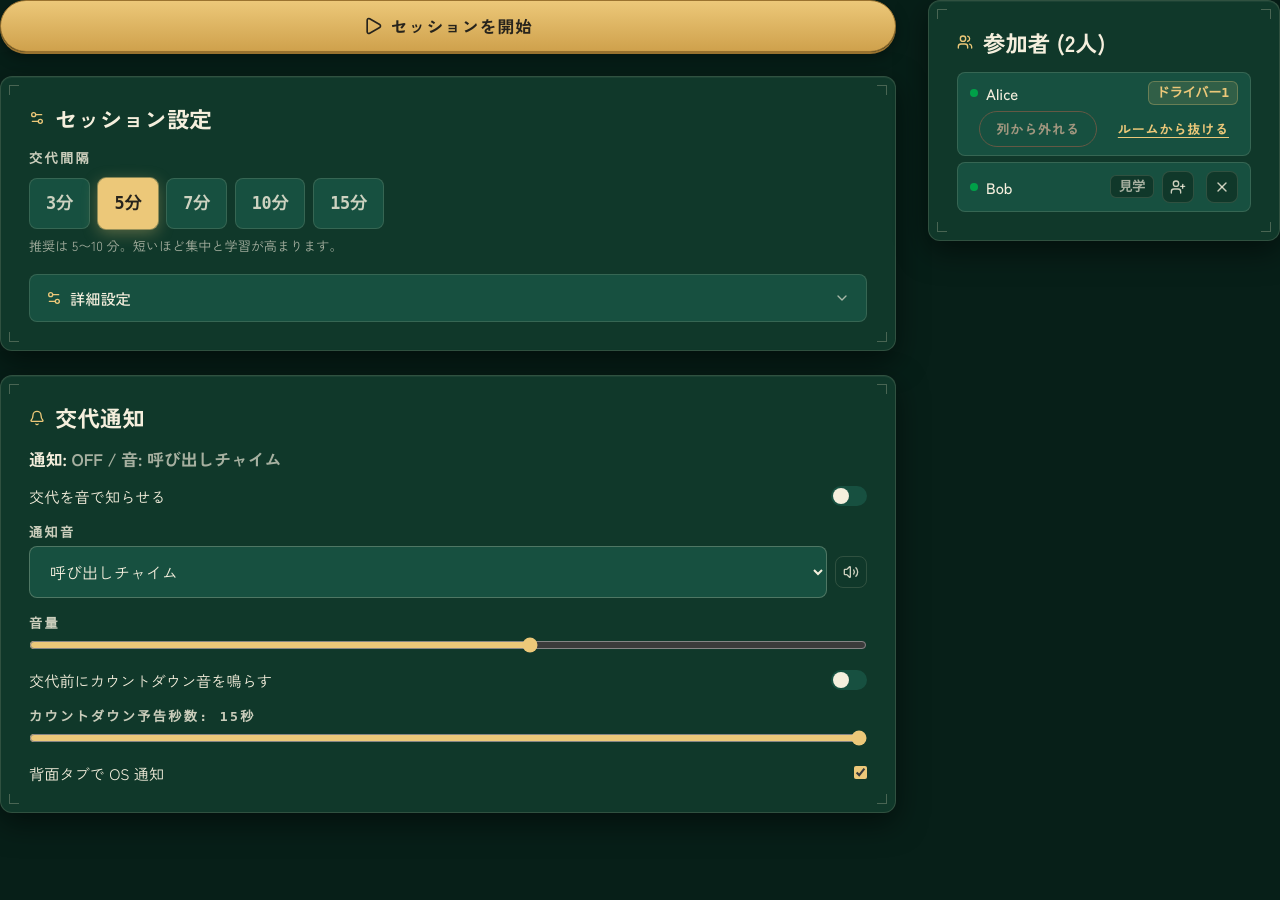
it: Lobby 退出の確認 › キャンセルすると退出させない
The width and height of the screenshot is (1280, 900).
Click the button named "Bob を退出させる" at [1222, 187], box [1206,171,1238,203]
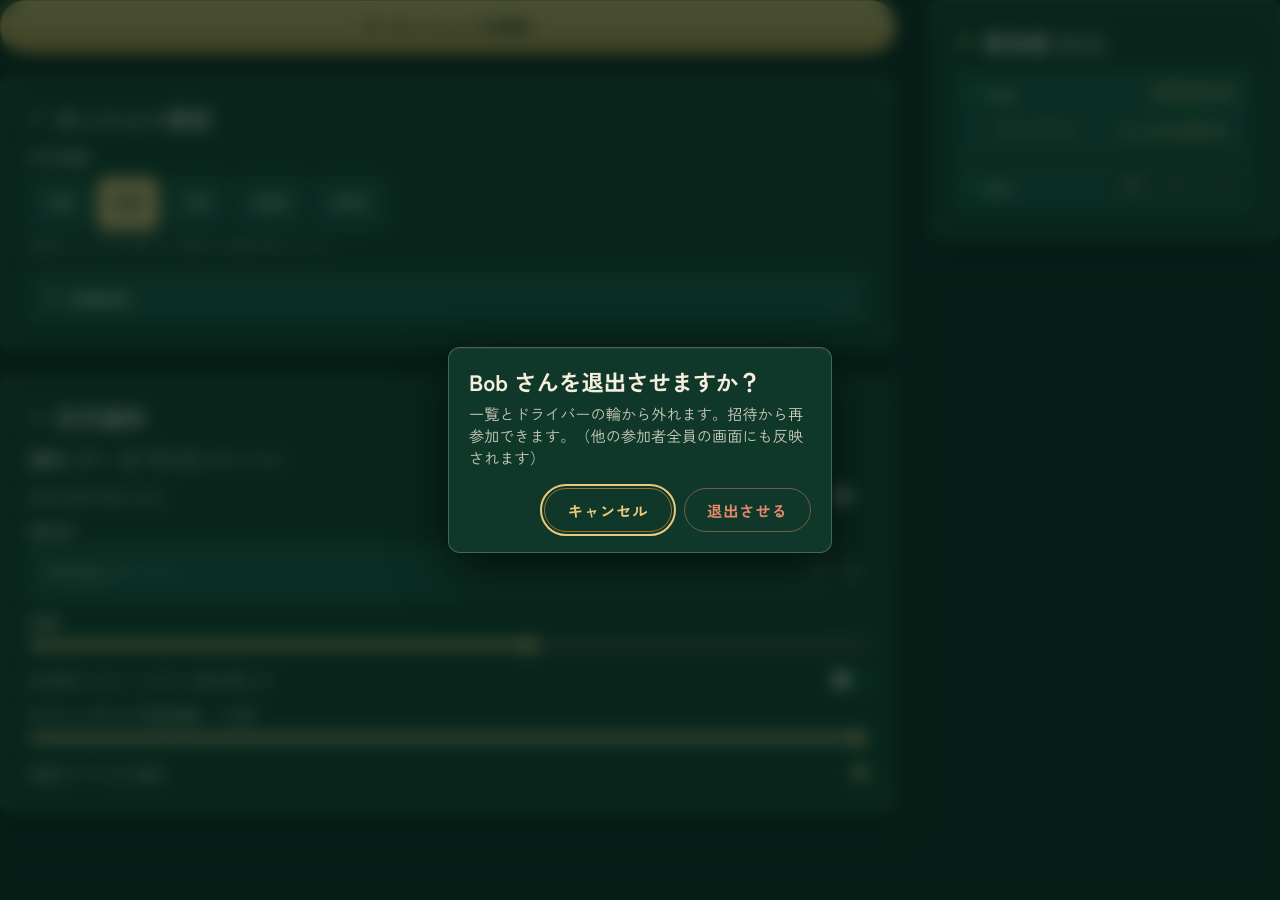
Click the button "キャンセル" at [608, 510], box [544,488,672,532]
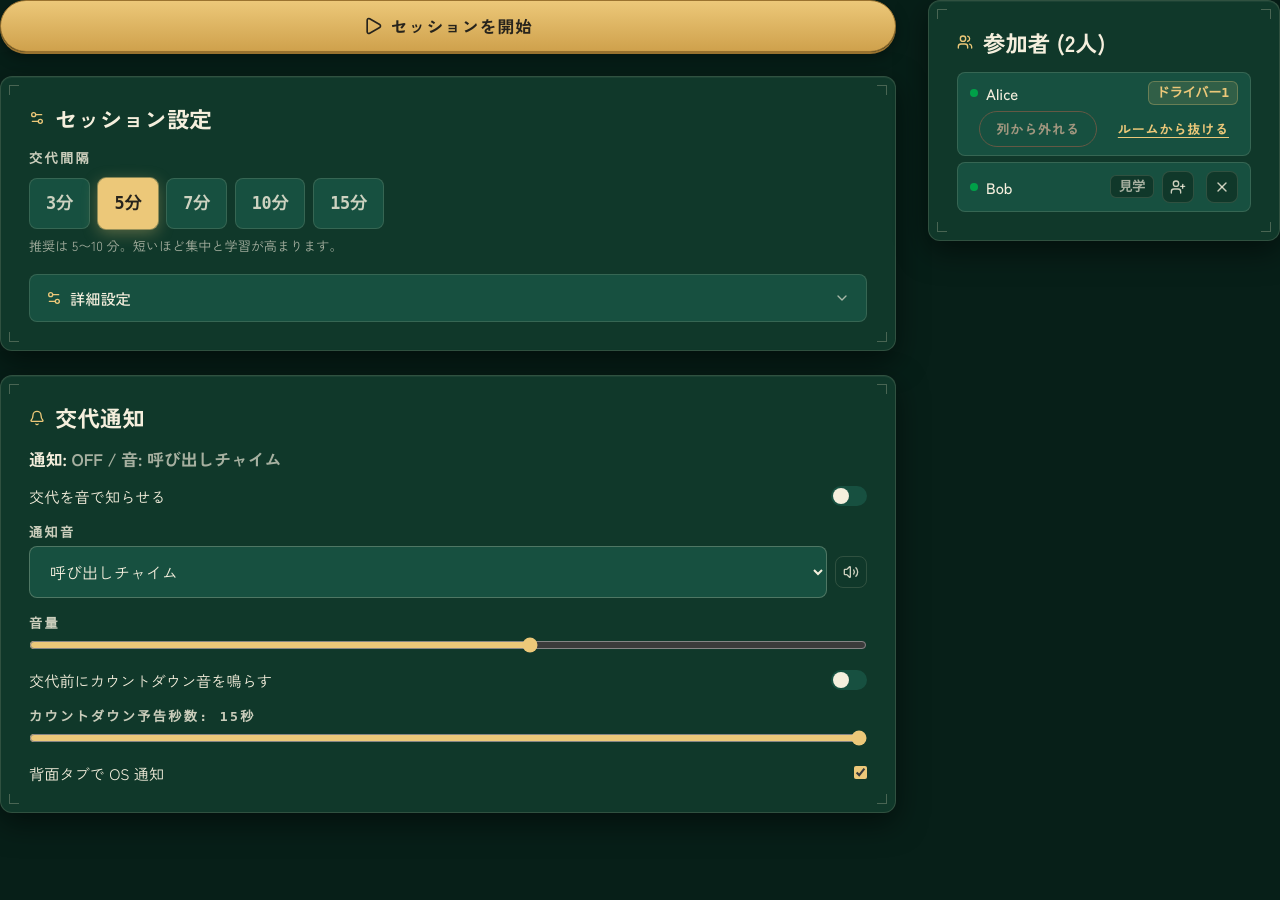
Expected: the dialog is gone
